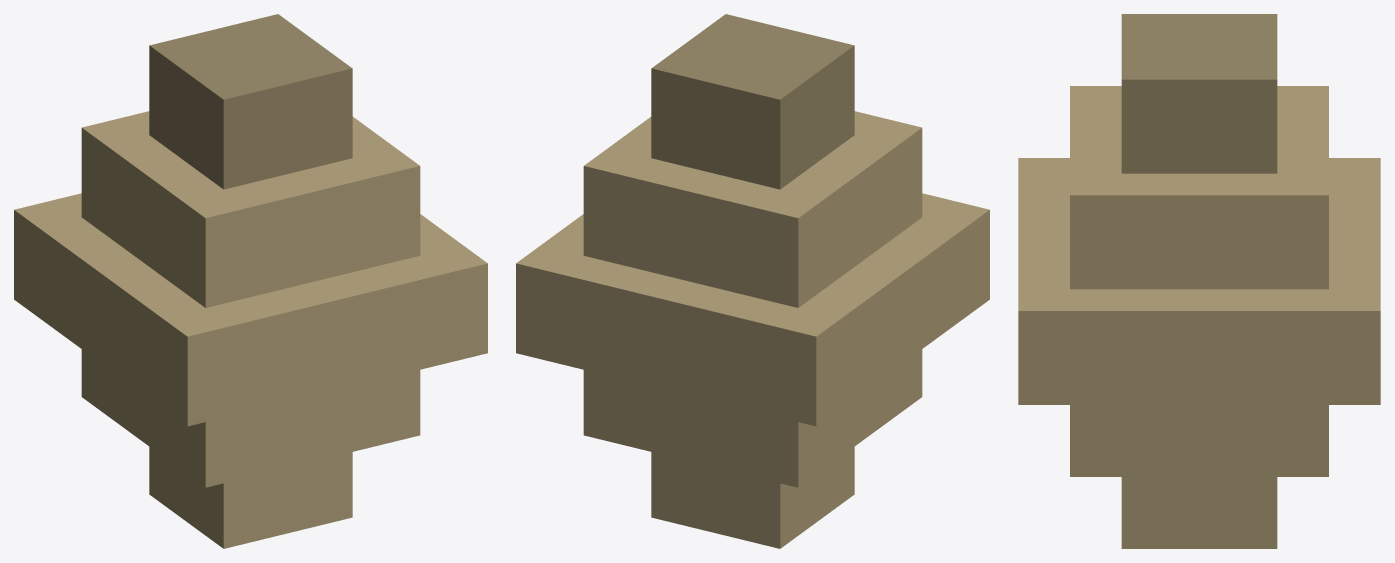
File: bolsa_semillas_trigo_01.glb
The picture shows the model from 3 angles, left to right: view 1: azimuth 30°, elevation 25°; view 2: azimuth 150°, elevation 25°; view 3: azimuth 270°, elevation 25°; orthographic projection. The views are drawn at different scales.
Visible parts, largest first — view 1: bolsa_semillas_trigo; view 2: bolsa_semillas_trigo; view 3: bolsa_semillas_trigo.
Boxes of the visible parts, x1,y1,x2,y2 form: bolsa_semillas_trigo: (14,14,487,548); bolsa_semillas_trigo: (516,14,989,548); bolsa_semillas_trigo: (1018,14,1380,548).
Size of the model in its own units: 0.5833 by 0.8333 by 0.5833.
